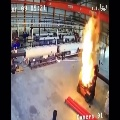fire: (78, 10, 99, 86)
